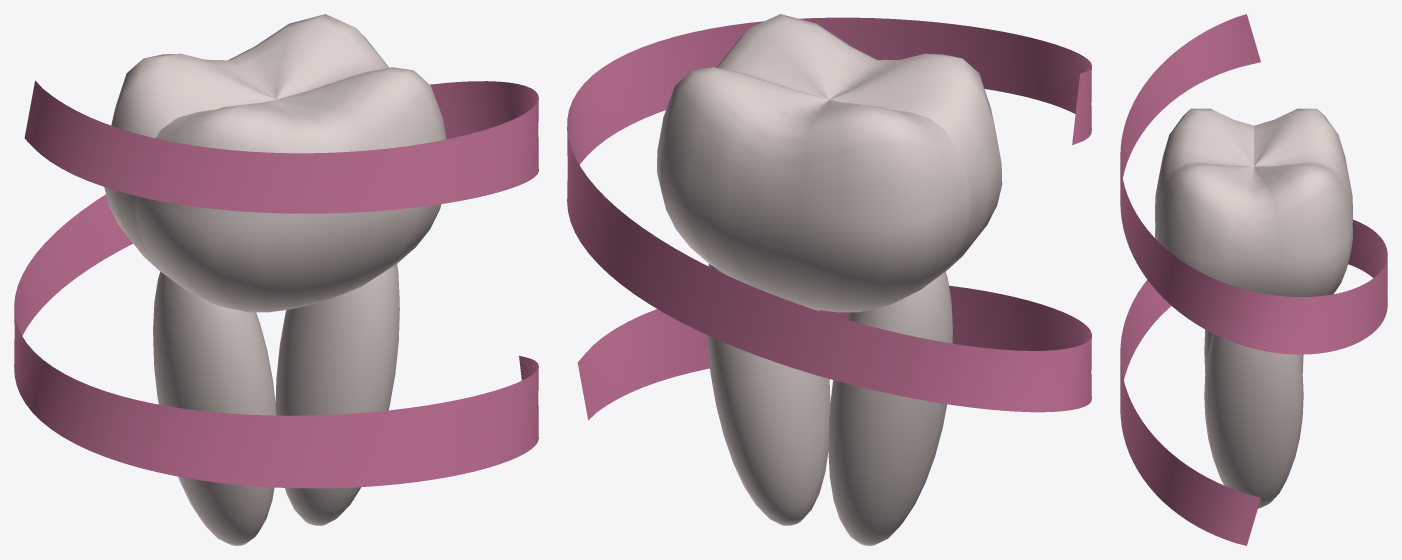
Rendered from dental-mobile.glb.
The picture shows the model from 3 angles, left to right: view 1: azimuth 30°, elevation 25°; view 2: azimuth 150°, elevation 25°; view 3: azimuth 270°, elevation 25°; orthographic projection. The views are drawn at different scales.
Visible parts, largest first — view 1: ribbon, crown, root_left, root_right; view 2: crown, ribbon, root_left, root_right; view 3: ribbon, crown, root_right.
Boxes of the visible parts, x1,y1,x2,y2 form: ribbon: [14, 80, 538, 488]; crown: [104, 14, 446, 312]; root_left: [153, 272, 276, 545]; root_right: [275, 264, 399, 525]; crown: [657, 14, 1002, 312]; ribbon: [567, 17, 1091, 419]; root_left: [828, 272, 952, 545]; root_right: [707, 264, 830, 525]; ribbon: [1120, 14, 1387, 545]; crown: [1155, 108, 1352, 296]; root_right: [1204, 333, 1303, 508].
Size of the model in its own units: 2.51 by 2.5 by 1.56.
